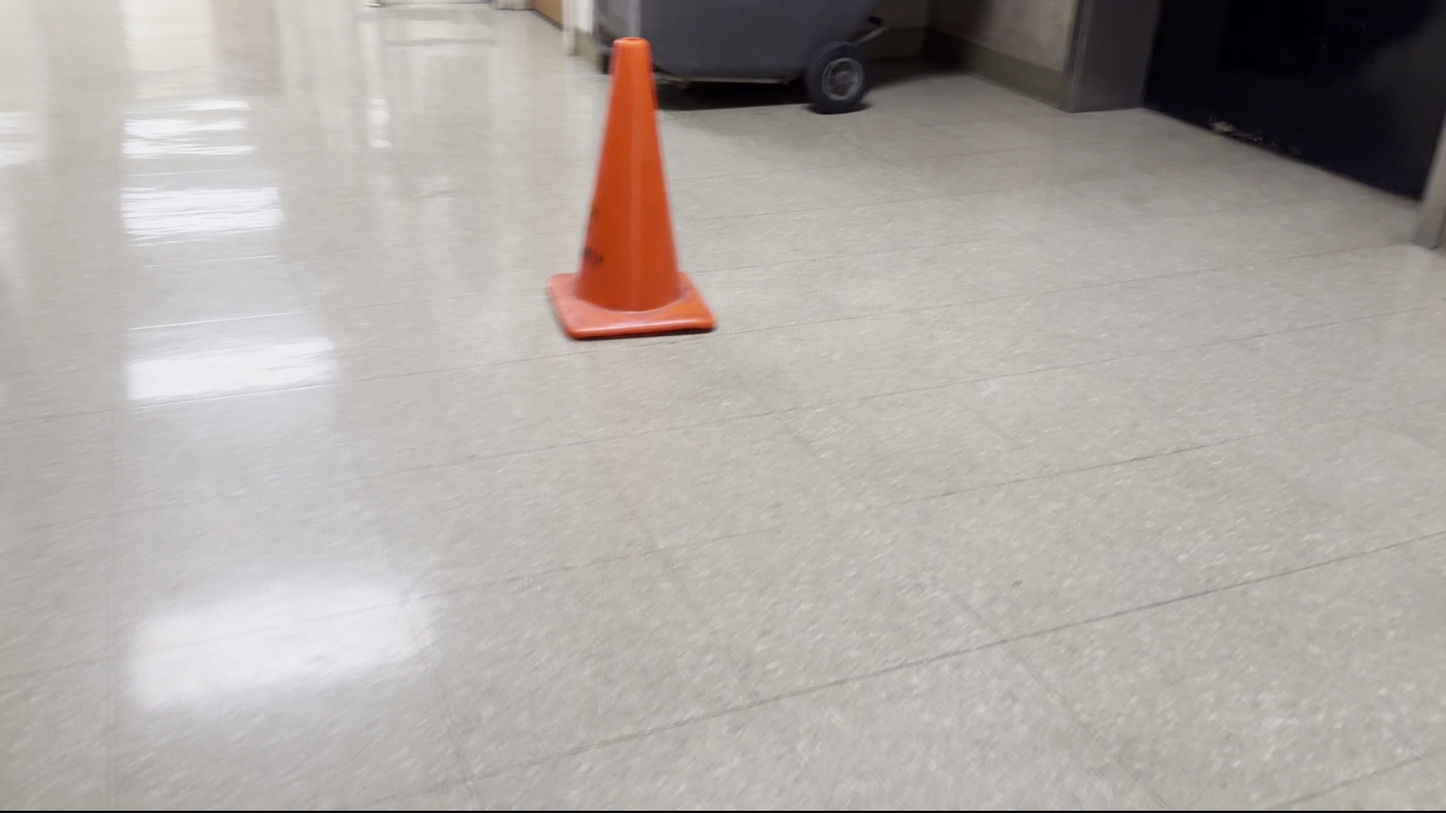traffic_cone: (545, 35, 718, 341)
